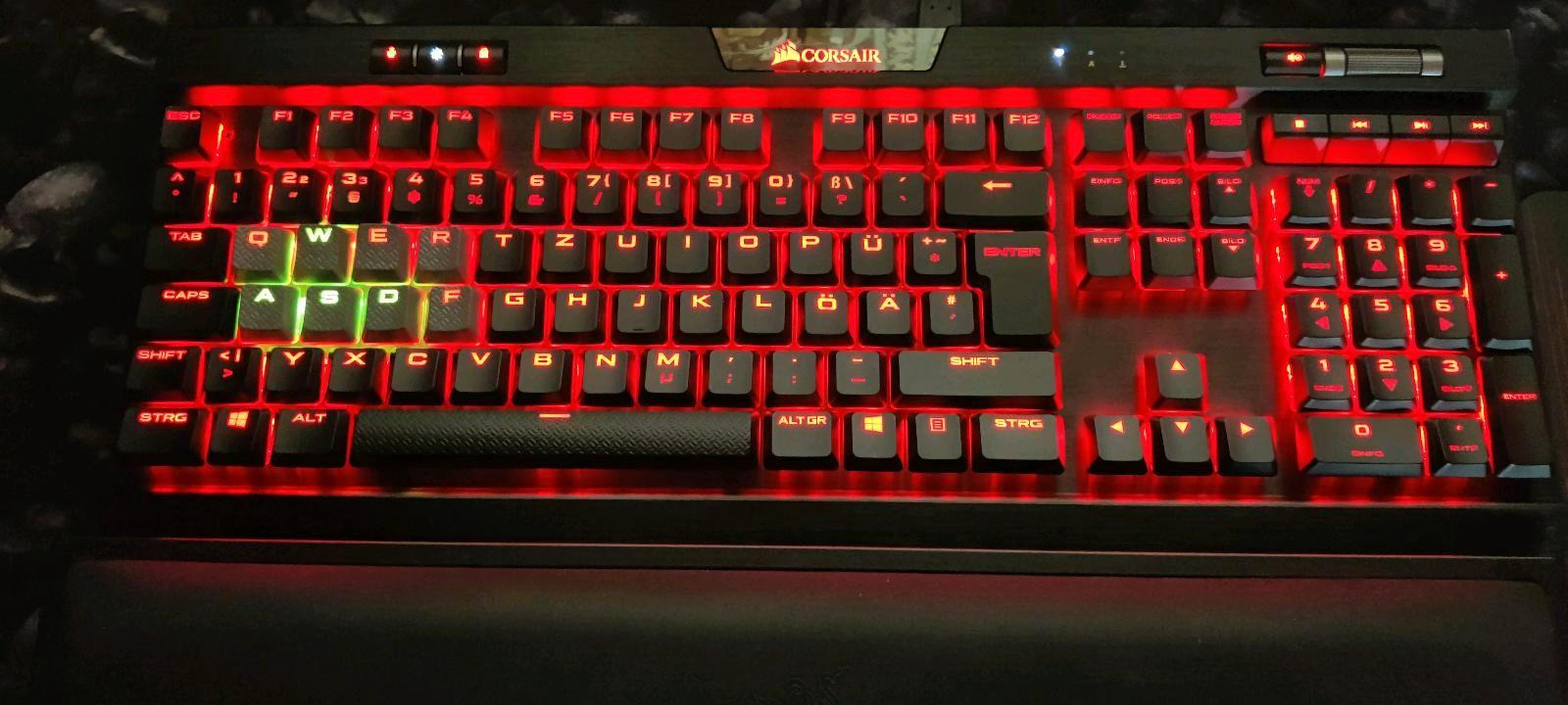0: (755, 166, 806, 215)
1: (209, 164, 263, 218)
2: (269, 164, 319, 218)
3: (328, 163, 380, 218)
4: (389, 163, 440, 215)
5: (449, 164, 501, 217)
6: (512, 165, 561, 214)
7: (573, 165, 619, 213)
8: (633, 165, 683, 214)
9: (696, 165, 743, 214)
a: (235, 281, 291, 332)
accent: (878, 165, 924, 214)
ae: (863, 284, 911, 334)
alt-left: (269, 402, 346, 459)
altgr-right: (766, 405, 834, 456)
b: (514, 344, 564, 392)
c: (389, 343, 441, 391)
caret: (151, 164, 199, 214)
comma: (706, 345, 753, 393)
d: (364, 281, 413, 332)
del: (940, 166, 1048, 214)
e: (351, 220, 409, 276)
enter: (970, 226, 1053, 336)
f: (423, 281, 476, 332)
g: (489, 283, 535, 329)
h: (551, 283, 599, 331)
hash: (926, 284, 973, 333)
i: (662, 226, 708, 270)
j: (613, 283, 661, 332)
k: (675, 284, 723, 332)
keyboard: (106, 84, 1560, 505)
l: (737, 284, 785, 332)
less: (202, 341, 255, 396)
m: (641, 344, 691, 393)
minus: (832, 346, 879, 393)
n: (580, 345, 627, 394)
o: (724, 226, 771, 273)
oe: (800, 284, 849, 334)
p: (786, 226, 833, 273)
plus: (909, 226, 956, 273)
point: (769, 346, 815, 393)
q: (226, 222, 288, 274)
r: (415, 223, 463, 273)
s: (299, 280, 358, 335)
shift-left: (123, 341, 194, 394)
shift-lock: (134, 279, 232, 334)
shift-right: (896, 347, 1054, 395)
space: (350, 405, 757, 463)
ss: (816, 165, 865, 215)
strg-left: (113, 401, 202, 458)
strg-right: (975, 408, 1062, 460)
t: (477, 225, 524, 270)
tab: (141, 221, 226, 272)
u: (602, 225, 650, 271)
ue: (848, 226, 895, 275)
v: (453, 344, 501, 391)
w: (290, 221, 348, 278)
x: (326, 344, 377, 393)
y: (263, 343, 319, 396)
z: (540, 224, 586, 271)
